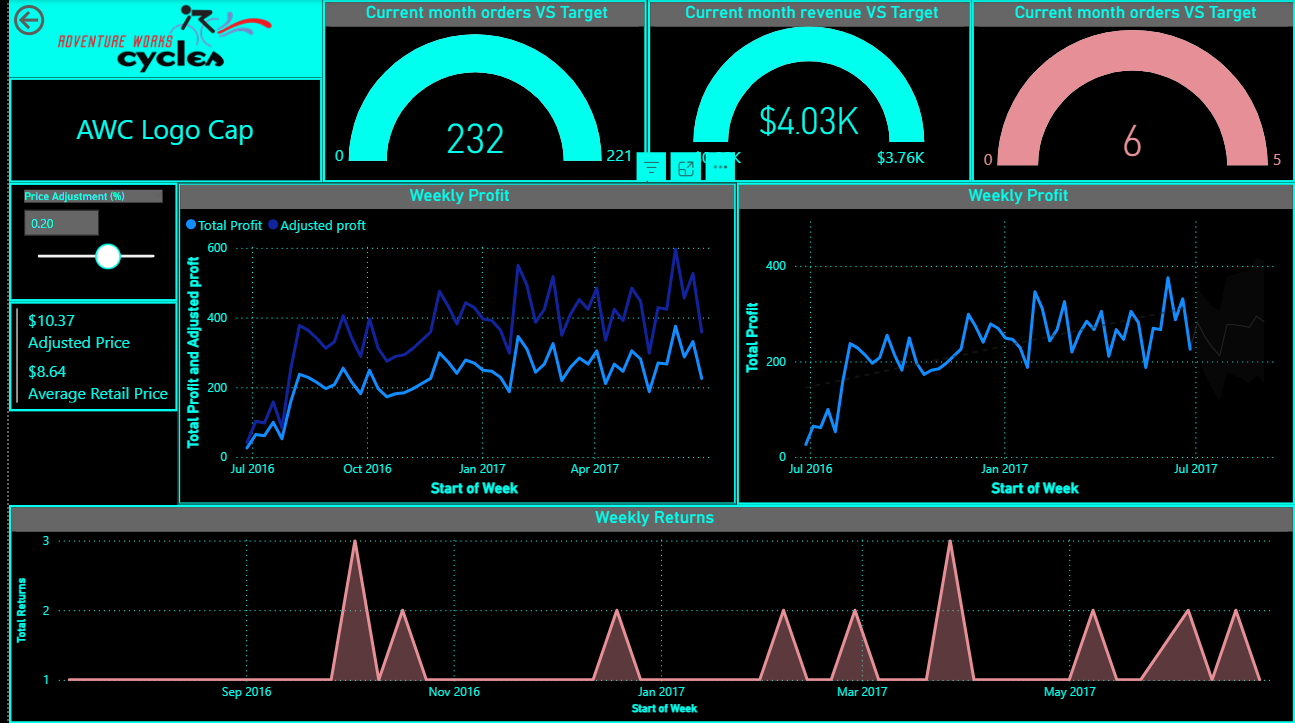

The page's visual inventory and layout, read from the dashboard file:
{"tool":"powerbi","page":{"name":"Product Details","canvas":[1280,720],"ordinal":1},"visuals":[{"type":"lineChart","title":"Weekly Profit","fields":{"Y":["AW-Sales.Total Profit"],"Category":["AW_Calendar_Lookup.Start of Week"]},"box":[724,181.6,556,320.9],"z":0},{"type":"image","box":[0,0,312.2,77.1],"z":1000},{"type":"areaChart","title":"Weekly Returns","fields":{"Category":["AW_Calendar_Lookup.Start of Week"],"Y":["AW_Returns.Total Returns"]},"box":[0,502.6,1280,217.7],"z":2000},{"type":"gauge","title":"Current month orders VS Target","fields":{"Y":["AW-Sales.Total Orders"],"MaxValue":["AW-Sales.Order Target"]},"box":[312.2,0,322.2,181.6],"z":3000},{"type":"gauge","title":"Current month revenue VS Target","fields":{"MaxValue":["AW-Sales.Revenue Target"],"Y":["AW-Sales.Total Reveue"]},"box":[635.7,0,322.2,181.6],"z":4000},{"type":"gauge","title":"Current month orders VS Target","fields":{"Y":["AW_Returns.Total Returns"],"MaxValue":["AW_Returns.Prev Month Returns"]},"box":[957.8,0,322.2,181.6],"z":5000},{"type":"card","fields":{"Values":["Min(AW_Product_lookup.ProductName)"]},"box":[0,77.1,312.2,104.5],"z":6000},{"type":"actionButton","box":[0,0,100,40],"z":7000},{"type":"slicer","fields":{"Values":["Price Adjustment (%).Price Adjustment (%)"]},"box":[0,181.6,167.9,118.2],"z":8000},{"type":"multiRowCard","fields":{"Values":["AW_Product_lookup.Adjusted Price","AW_Product_lookup.Average Retail Price"]},"box":[0,299.8,167.9,109.5],"z":9000},{"type":"lineChart","title":"Weekly Profit","fields":{"Y":["AW-Sales.Total Profit","AW-Sales.Adjusted proft"],"Category":["AW_Calendar_Lookup.Start of Week"]},"box":[167.9,181.6,556,320.9],"z":10000}]}

Visuals, with their boxes in screenshot pixels (x1, y1, x2, y2), scaled from the page's 1280x720 canvas onto the 1295x723 screenshot:
"Weekly Profit" lineChart: bbox=[732, 182, 1294, 505]
image: bbox=[0, 0, 316, 77]
"Weekly Returns" areaChart: bbox=[0, 505, 1294, 722]
"Current month orders VS Target" gauge: bbox=[316, 0, 642, 182]
"Current month revenue VS Target" gauge: bbox=[643, 0, 969, 182]
"Current month orders VS Target" gauge: bbox=[969, 0, 1294, 182]
card - Min(AW_Product_lookup.ProductName): bbox=[0, 77, 316, 182]
actionButton: bbox=[0, 0, 101, 40]
slicer - Price Adjustment (%).Price Adjustment (%): bbox=[0, 182, 170, 301]
multiRowCard - AW_Product_lookup.Adjusted Price x AW_Product_lookup.Average Retail Price: bbox=[0, 301, 170, 411]
"Weekly Profit" lineChart: bbox=[170, 182, 732, 505]
